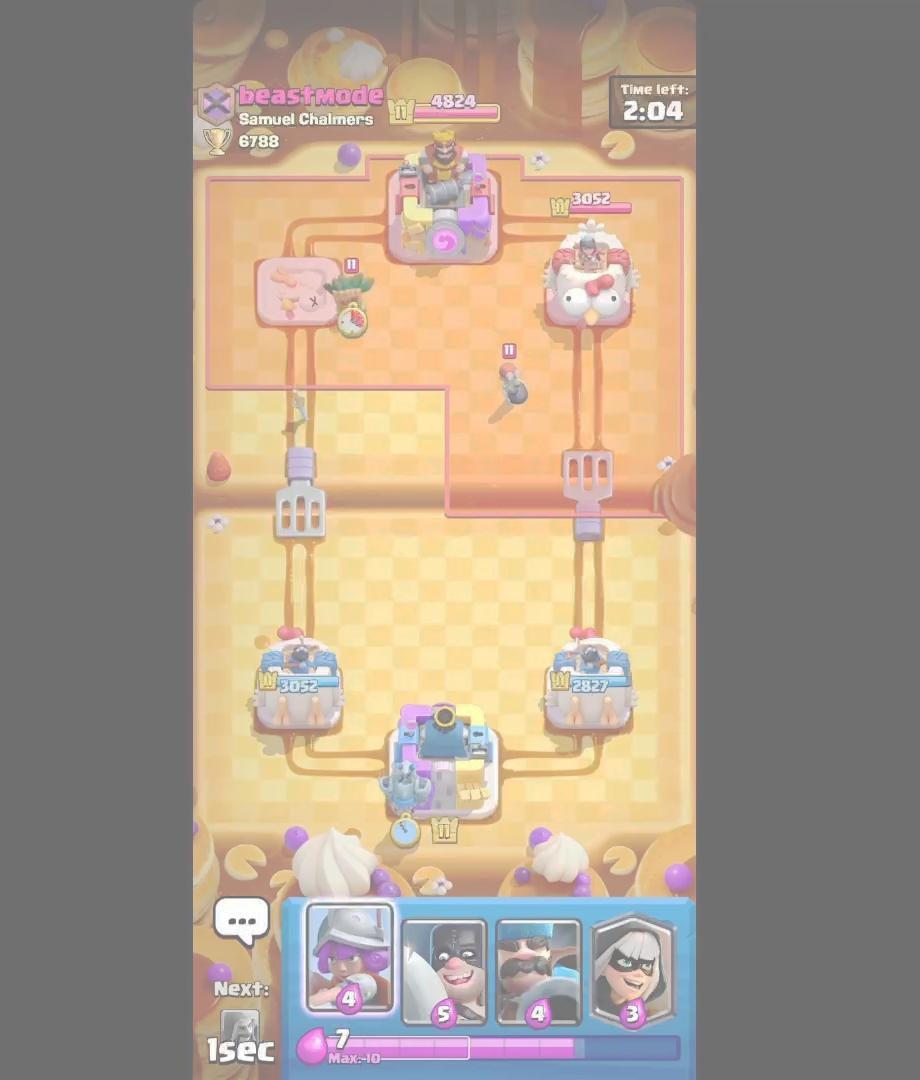Bomber: (493, 339, 538, 412)
Dart Goblin: (324, 261, 378, 335)
